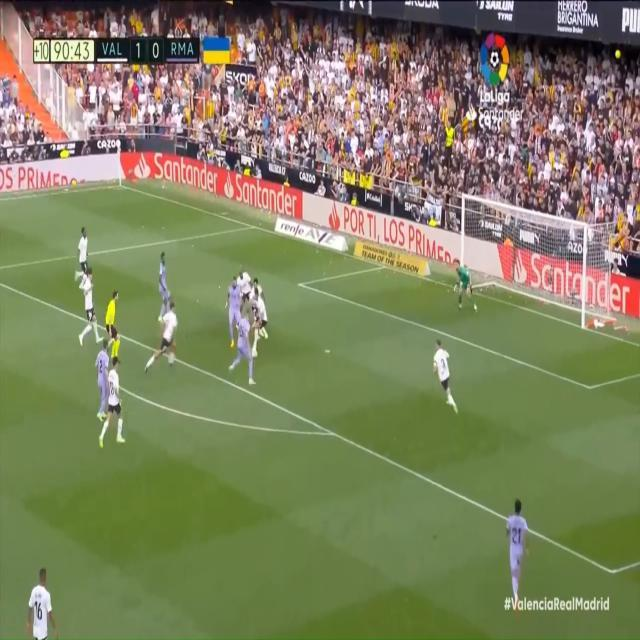ball: (168, 345, 182, 375)
goalkeeper: (453, 260, 480, 315)
player: (507, 494, 534, 611), (24, 556, 61, 640), (97, 351, 125, 452), (149, 298, 180, 378), (434, 337, 460, 416), (229, 304, 255, 383), (79, 263, 101, 353), (223, 273, 244, 350), (251, 273, 271, 349), (155, 246, 173, 319), (74, 217, 92, 283), (239, 263, 254, 308)
referee: (104, 283, 121, 363)
